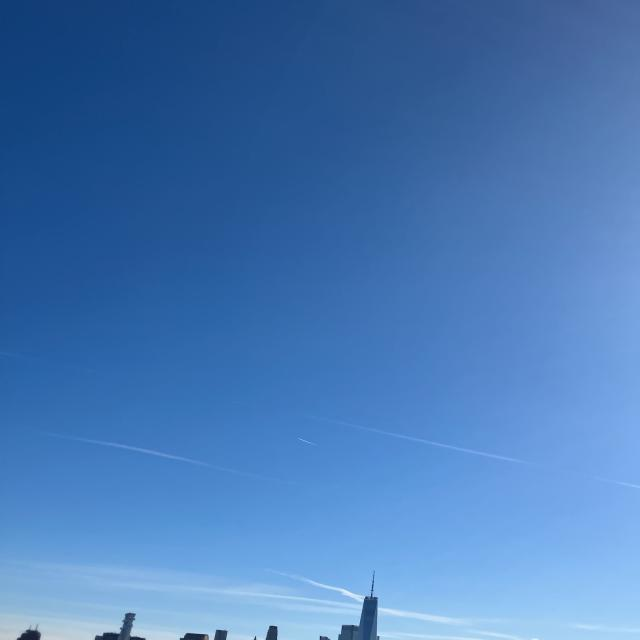WTC: (352, 571, 380, 640)
